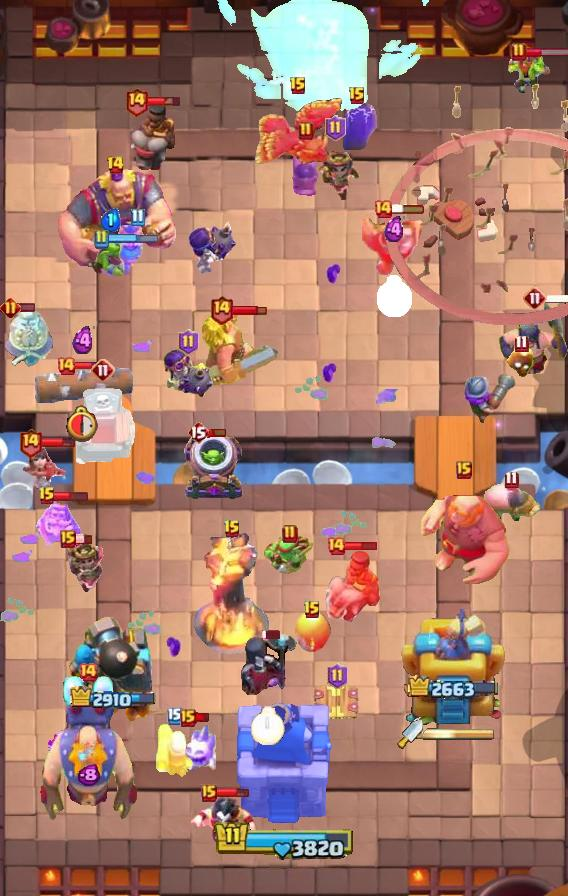bar: (107, 233, 158, 245), (525, 47, 568, 58), (214, 786, 250, 799), (40, 436, 76, 449), (390, 203, 426, 215), (344, 540, 379, 552), (54, 490, 89, 502), (232, 304, 267, 316), (147, 95, 182, 107), (74, 361, 108, 371), (545, 293, 568, 304), (262, 629, 282, 640), (207, 427, 227, 438), (74, 534, 93, 545), (17, 302, 36, 313), (194, 712, 211, 723)
bar-level: (18, 427, 43, 458), (209, 294, 234, 325), (124, 86, 149, 117), (91, 358, 115, 382), (523, 286, 547, 310), (327, 663, 348, 689), (178, 329, 199, 355), (325, 115, 346, 141), (187, 420, 209, 444), (0, 297, 21, 318), (78, 662, 98, 682), (326, 536, 346, 556), (56, 356, 76, 376), (373, 199, 393, 219), (106, 155, 125, 175), (303, 600, 321, 620), (223, 519, 241, 539), (38, 486, 56, 506), (348, 86, 366, 106), (289, 76, 307, 96), (282, 524, 298, 544), (93, 229, 109, 249), (298, 121, 314, 141), (511, 42, 527, 62), (201, 784, 217, 802), (180, 709, 196, 727), (167, 707, 183, 725), (60, 530, 76, 548), (456, 461, 472, 479), (504, 470, 519, 489), (514, 334, 529, 353), (130, 208, 145, 227)
bomber-evolution: (187, 221, 239, 277), (162, 347, 214, 401)
cannoneer-tower: (64, 615, 164, 731)
clock: (376, 275, 413, 318), (66, 404, 101, 442), (251, 706, 285, 745)
dagger-duchess-tower: (401, 601, 505, 731)
dagger-duchess-tower-bar: (423, 727, 495, 741)
electro-spirit: (337, 100, 377, 150)
electro-wizard: (186, 793, 262, 847)
elixir: (72, 326, 95, 356), (384, 216, 405, 244), (77, 764, 100, 787), (100, 208, 121, 232)
executioner: (498, 302, 568, 378)
fire-spirit: (507, 347, 535, 379)
firecracker: (154, 721, 196, 779)
goblin: (505, 49, 551, 95), (90, 238, 130, 276)
ice-spirit-evolution: (179, 722, 219, 774)
king-tower: (235, 703, 333, 826)
king-tower-bar: (214, 820, 355, 861)
knight: (362, 213, 426, 279)
knight-evolution: (36, 499, 82, 557)
little-prince: (59, 539, 108, 601), (308, 146, 362, 200)
mortar-evolution: (182, 432, 246, 502)
musketeer: (460, 372, 516, 428)
night-witch: (237, 631, 299, 701)
phoenix-egg: (292, 610, 332, 654)
princess: (20, 440, 70, 492)
ram-rider: (321, 548, 381, 624), (125, 98, 177, 172)
royal-hog: (481, 479, 541, 525), (290, 145, 322, 199)
spear-goblin: (263, 534, 317, 576)
tesla: (312, 682, 362, 722)
the-log: (32, 367, 134, 403)
tower-bar: (408, 675, 499, 702), (70, 686, 158, 712)
valkyrie: (113, 223, 161, 277)
